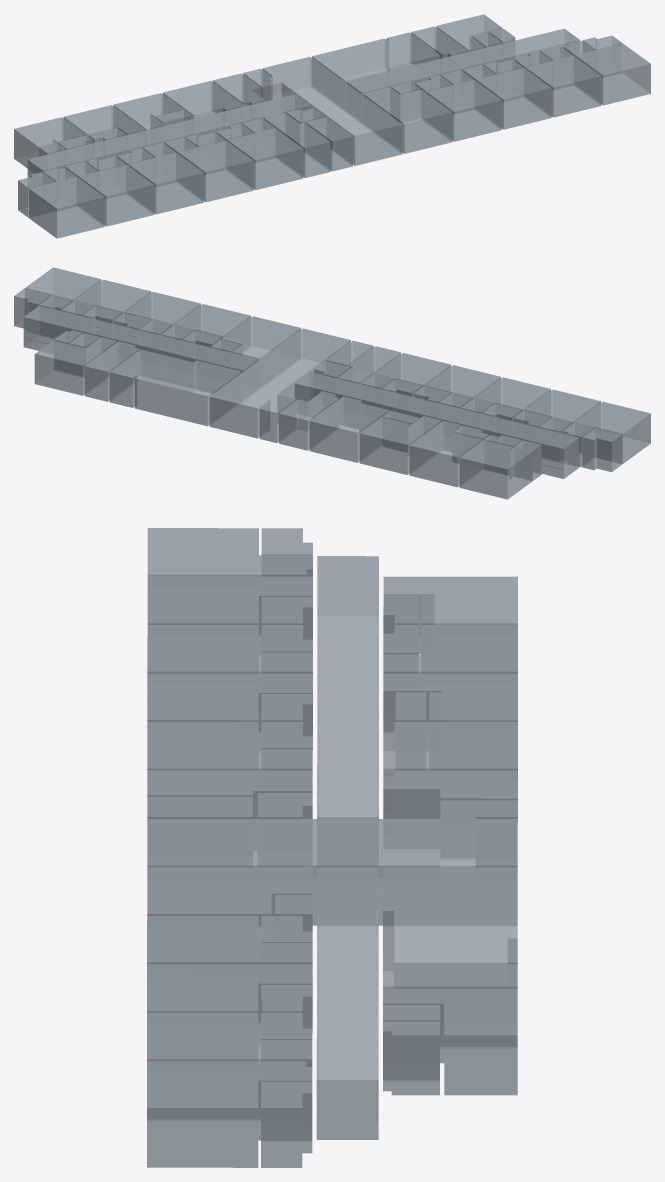
Rendered from ground_areas.glb.
The picture shows the model from 3 angles, top to bottom: view 1: azimuth 30°, elevation 25°; view 2: azimuth 150°, elevation 25°; view 3: azimuth 270°, elevation 25°; orthographic projection. The views are drawn at different scales.
Visible parts, largest first — view 1: IfcSpace/101, IfcSpace/105, IfcSpace/119, IfcSpace/5-1, IfcSpace/114, IfcSpace/121, IfcSpace/1-1, IfcSpace/4-1, IfcSpace/9-1, IfcSpace/3-1, IfcSpace/2-1, IfcSpace/10-1 (+27 smaller); view 2: IfcSpace/101, IfcSpace/114, IfcSpace/105, IfcSpace/119, IfcSpace/6-1, IfcSpace/111, IfcSpace/107, IfcSpace/110, IfcSpace/116, IfcSpace/5-1, IfcSpace/121, IfcSpace/112 (+23 smaller); view 3: IfcSpace/101, IfcSpace/119, IfcSpace/105, IfcSpace/114, IfcSpace/10-1, IfcSpace/116, IfcSpace/121, IfcSpace/111, IfcSpace/110, IfcSpace/9-1, IfcSpace/107, IfcSpace/3-1 (+36 smaller).
Boxes of the visible parts, <box> form: IfcSpace/101: <box>243,56,402,165</box>; IfcSpace/105: <box>27,94,310,177</box>; IfcSpace/119: <box>346,28,579,95</box>; IfcSpace/5-1: <box>29,176,104,238</box>; IfcSpace/114: <box>312,32,440,83</box>; IfcSpace/121: <box>363,87,452,153</box>; IfcSpace/1-1: <box>227,128,303,190</box>; IfcSpace/4-1: <box>78,164,154,226</box>; IfcSpace/9-1: <box>525,55,601,117</box>; IfcSpace/3-1: <box>128,152,203,214</box>; IfcSpace/2-1: <box>178,140,253,202</box>; IfcSpace/10-1: <box>575,43,650,105</box>; IfcSpace/101: <box>209,328,350,442</box>; IfcSpace/114: <box>109,349,241,426</box>; IfcSpace/105: <box>294,372,579,478</box>; IfcSpace/119: <box>23,305,258,373</box>; IfcSpace/6-1: <box>459,440,532,499</box>; IfcSpace/111: <box>309,396,388,462</box>; IfcSpace/107: <box>409,420,481,487</box>; IfcSpace/110: <box>359,416,441,474</box>; IfcSpace/116: <box>34,337,116,395</box>; IfcSpace/5-1: <box>575,401,650,463</box>; IfcSpace/121: <box>221,316,300,360</box>; IfcSpace/112: <box>279,391,338,450</box>; IfcSpace/101: <box>147,800,517,925</box>; IfcSpace/119: <box>316,867,378,1139</box>; IfcSpace/105: <box>317,556,378,818</box>; IfcSpace/114: <box>383,867,517,969</box>; IfcSpace/10-1: <box>147,1061,258,1167</box>; IfcSpace/116: <box>383,988,517,1095</box>; IfcSpace/121: <box>147,867,312,942</box>; IfcSpace/111: <box>383,722,517,822</box>; IfcSpace/110: <box>383,673,517,750</box>; IfcSpace/9-1: <box>147,1012,258,1061</box>; IfcSpace/107: <box>383,625,517,673</box>; IfcSpace/3-1: <box>147,625,258,673</box>.
Bounding box in the file's own units: 62.2 × 3 × 16.83.
